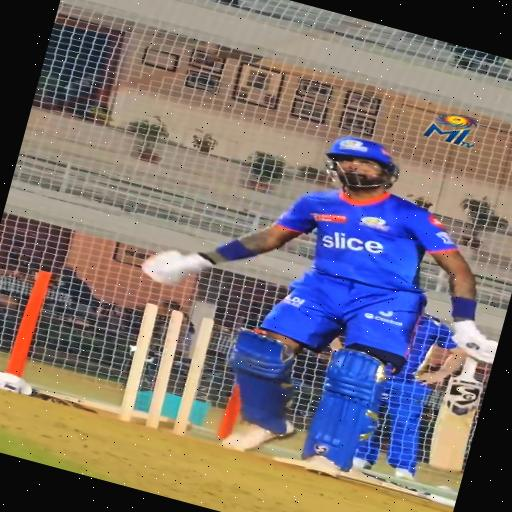Cricket bat: (428, 357, 481, 473)
